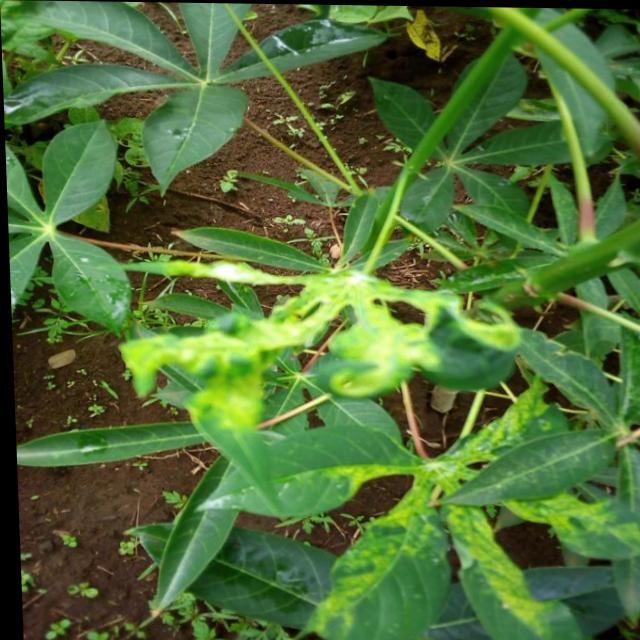Mosaico: (270, 411, 636, 637), (124, 220, 534, 394)
